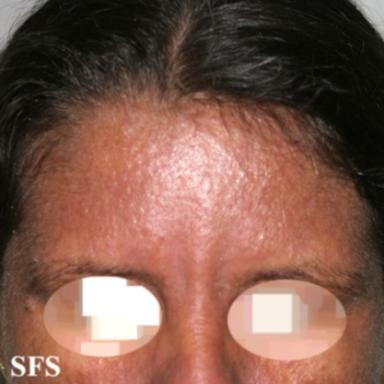Darier_s-Disease: (34, 110, 345, 263)
